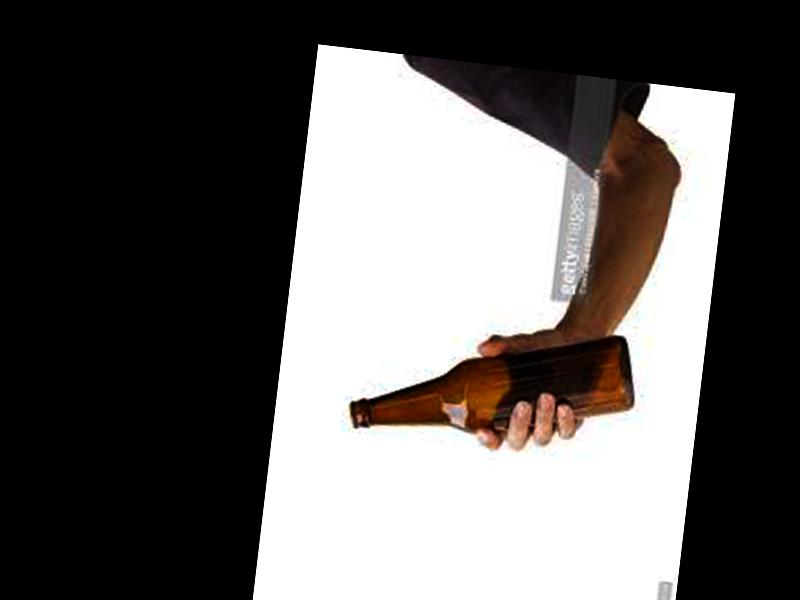Beer: (349, 303, 639, 459)
